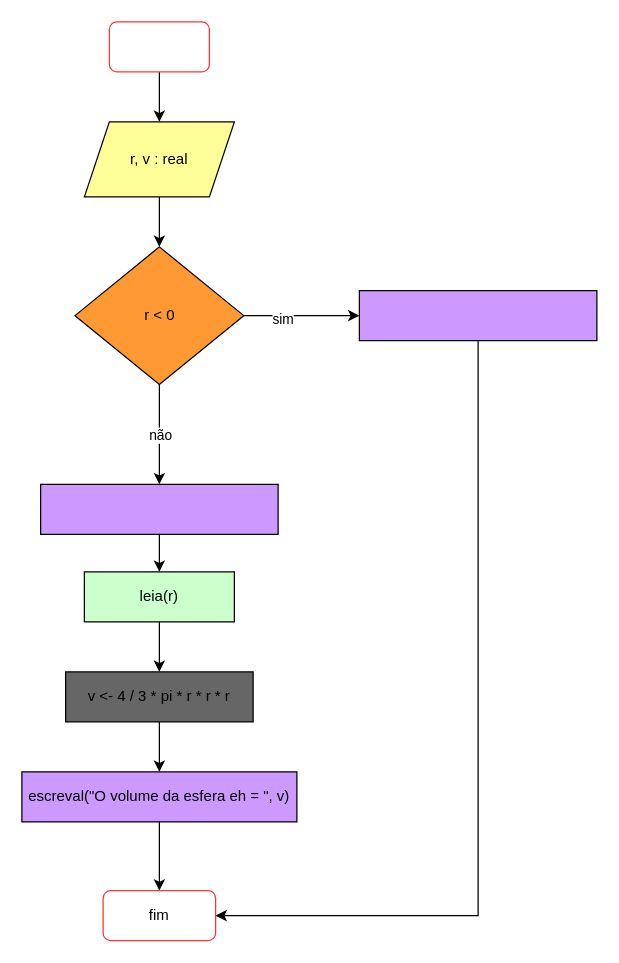
The diagram is 619 pixels wide and 963 high, and some of its shapes have lost their labels. The shapes that lost their labels are listed below. From the top down, each one's centre as x and y in pixels, then its label:
(158,46): Inicio
(477,315): escreval("O raio não pode ser negativo")
(158,508): escreva("Digite o raio da esfera: ")
